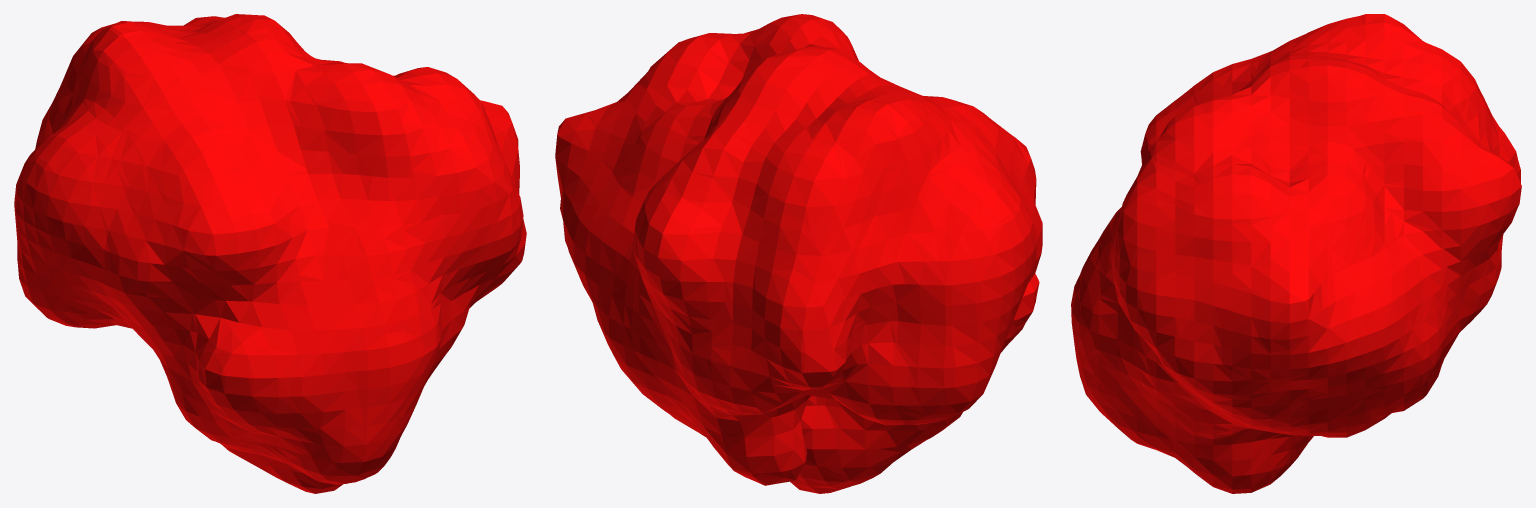
Rendered from Sialyltransferase_ST3Gal_I_coarse.dae.
The picture shows the model from 3 angles, left to right: view 1: azimuth 30°, elevation 25°; view 2: azimuth 150°, elevation 25°; view 3: azimuth 270°, elevation 25°; orthographic projection. The views are drawn at different scales.
Visible parts, largest first — view 1: Sialyltransferase_ST3Gal_I; view 2: Sialyltransferase_ST3Gal_I; view 3: Sialyltransferase_ST3Gal_I.
Part boxes in pixels (<box>): Sialyltransferase_ST3Gal_I: <box>14,14,526,493</box>; Sialyltransferase_ST3Gal_I: <box>555,14,1042,493</box>; Sialyltransferase_ST3Gal_I: <box>1071,14,1521,493</box>.
Size of the model in its own units: 58.5 by 53.52 by 52.32.
